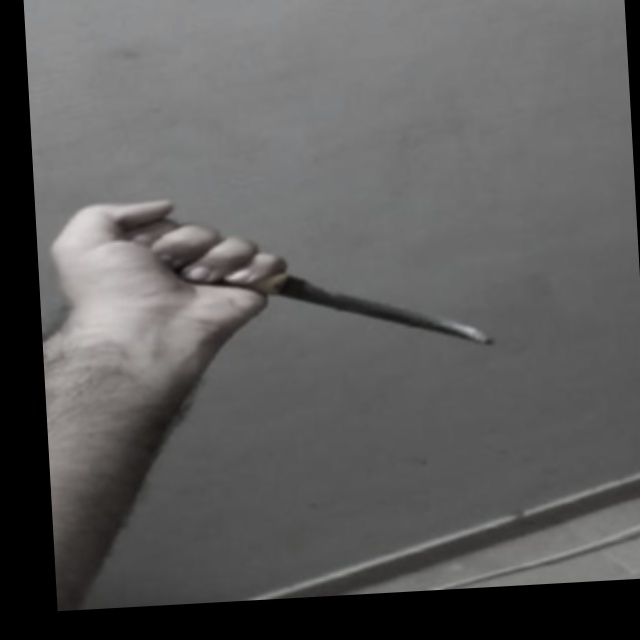Sharp-Object: (252, 259, 492, 359)
